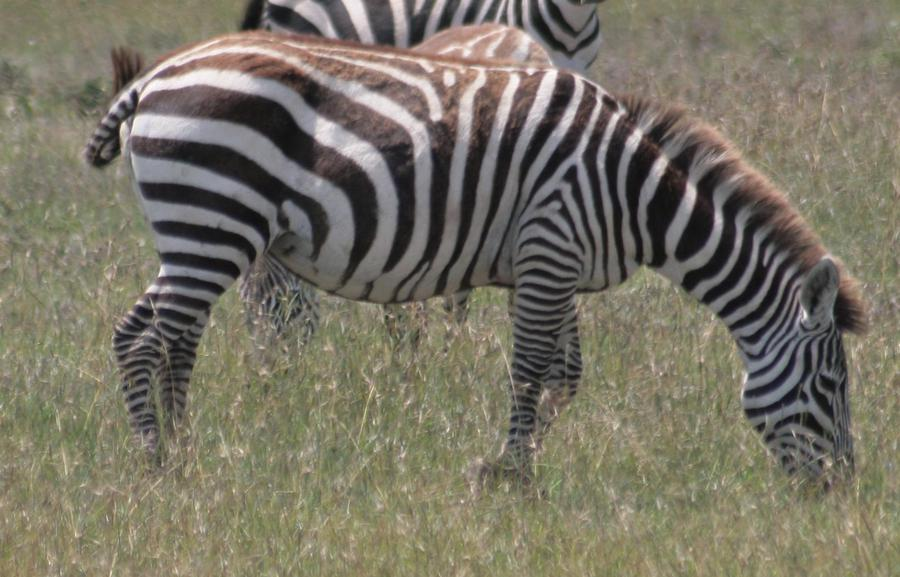zebra_plains: (128, 27, 641, 303)
